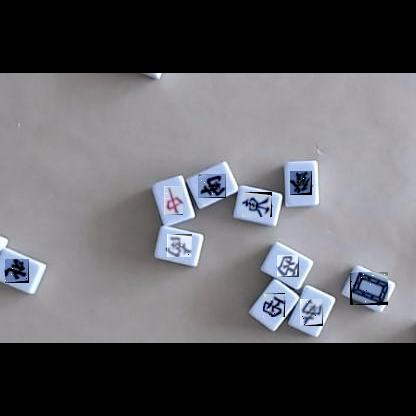1z: (242, 192, 272, 217)
2z: (198, 174, 226, 198), (300, 299, 323, 326), (167, 234, 192, 257)
3z: (263, 293, 285, 317), (277, 255, 299, 277)
4z: (5, 259, 29, 283)
5z: (350, 272, 388, 305)
6z: (290, 171, 312, 195)
7z: (164, 186, 183, 215)
